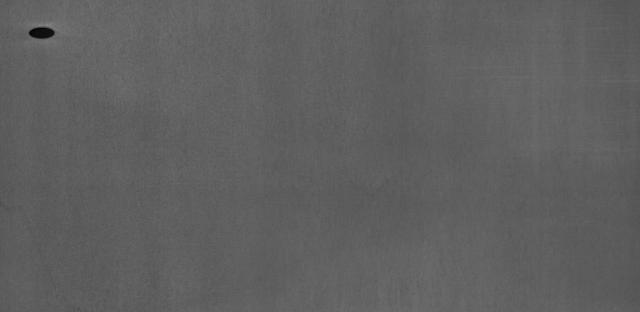punching_hole: (25, 22, 60, 43)
